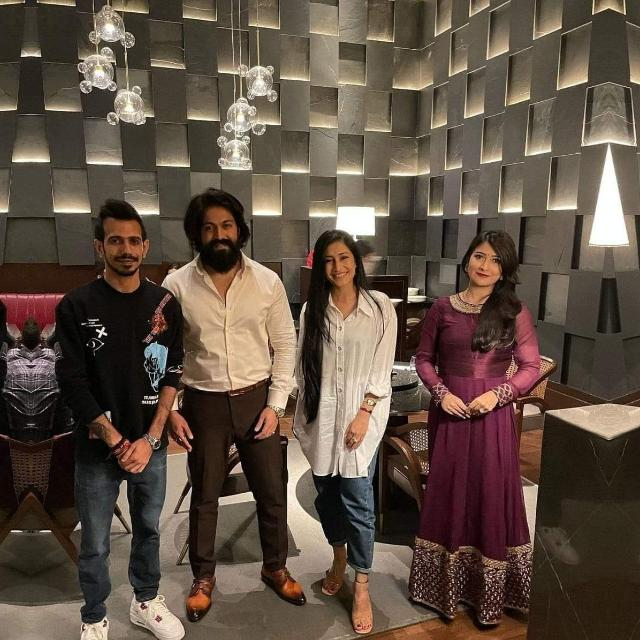person: (166, 174, 314, 640), (274, 206, 412, 640), (403, 218, 549, 620), (64, 189, 189, 640)
